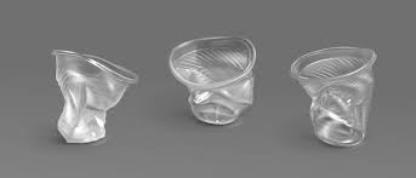Plastic Cup: (292, 48, 376, 146), (54, 50, 138, 144), (169, 37, 255, 125)
